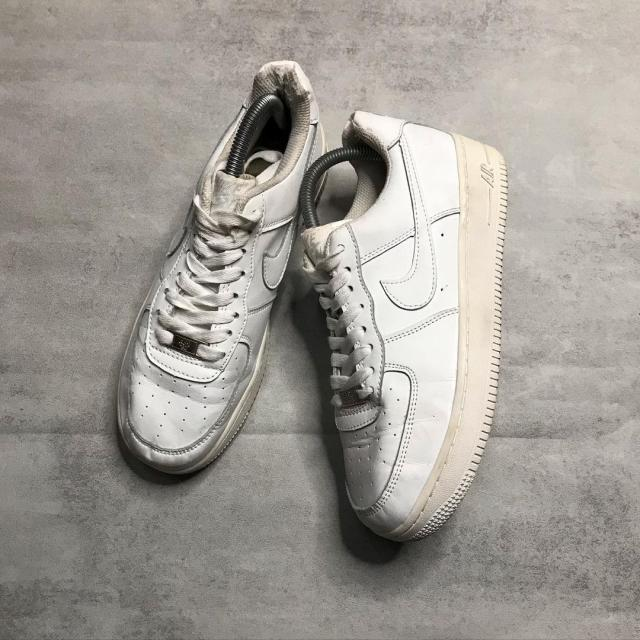nike fake air force: (301, 110, 510, 544), (106, 62, 318, 482)
